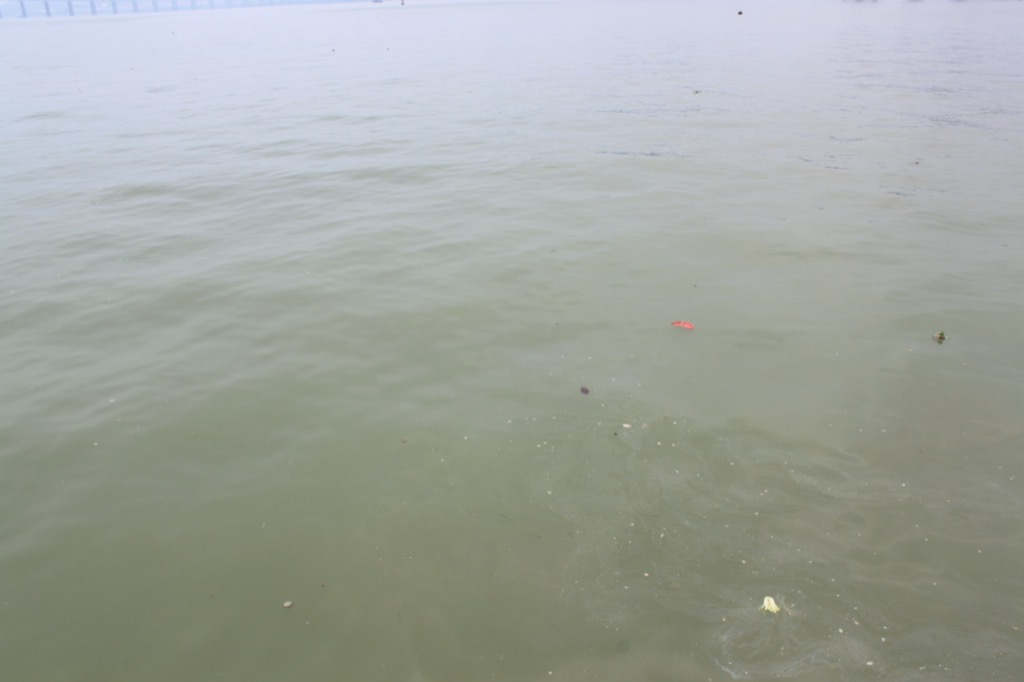organic: (922, 323, 954, 352), (576, 380, 596, 402), (730, 3, 752, 21), (610, 426, 624, 444)
plastic: (662, 311, 707, 341), (755, 588, 788, 628), (274, 595, 298, 618)
structure: (1, 1, 537, 25)
